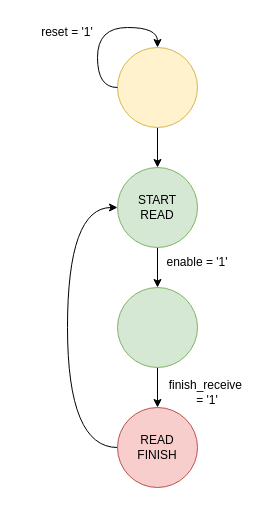
Some shapes in this 274 by 505 pixel diagram are drawn without their labels. Each missing label, with the centre of its shape:
INI: [157,87]
READING: [157,327]
